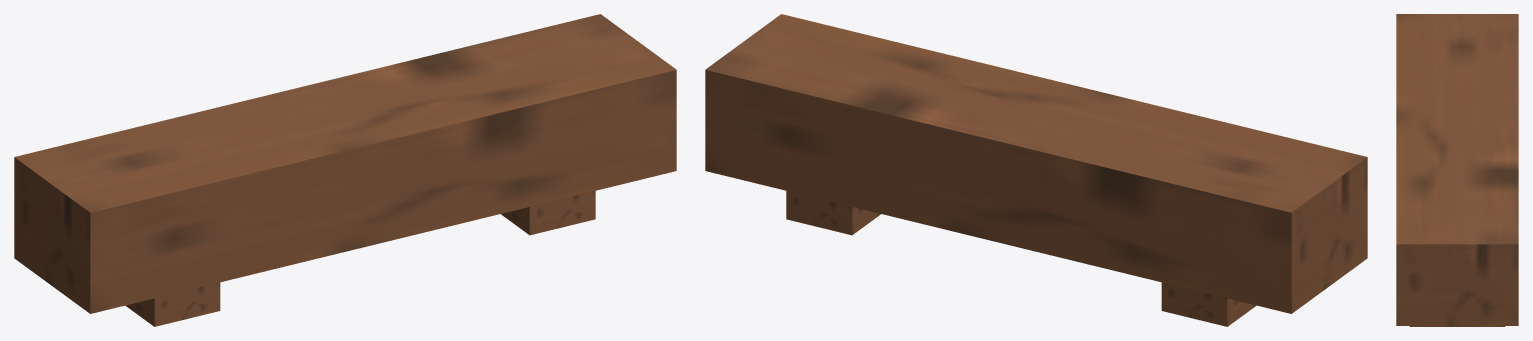
The model's file is rc_wa_lintel_4m.glb.
3 renders of one model, left to right at view 1: azimuth 30°, elevation 25°; view 2: azimuth 150°, elevation 25°; view 3: azimuth 270°, elevation 25°, orthographic. The views are drawn at different scales.
Visible parts, largest first — view 1: SM_RC_WA_LintelBeam_4m; view 2: SM_RC_WA_LintelBeam_4m; view 3: SM_RC_WA_LintelBeam_4m.
Boxes of the visible parts, <box> form: SM_RC_WA_LintelBeam_4m: <box>14,14,676,326</box>; SM_RC_WA_LintelBeam_4m: <box>705,14,1367,326</box>; SM_RC_WA_LintelBeam_4m: <box>1396,14,1518,326</box>.
Bounding box in the file's own units: 4 × 0.9 × 0.9.
Materials: 1 (1 with a texture image).
